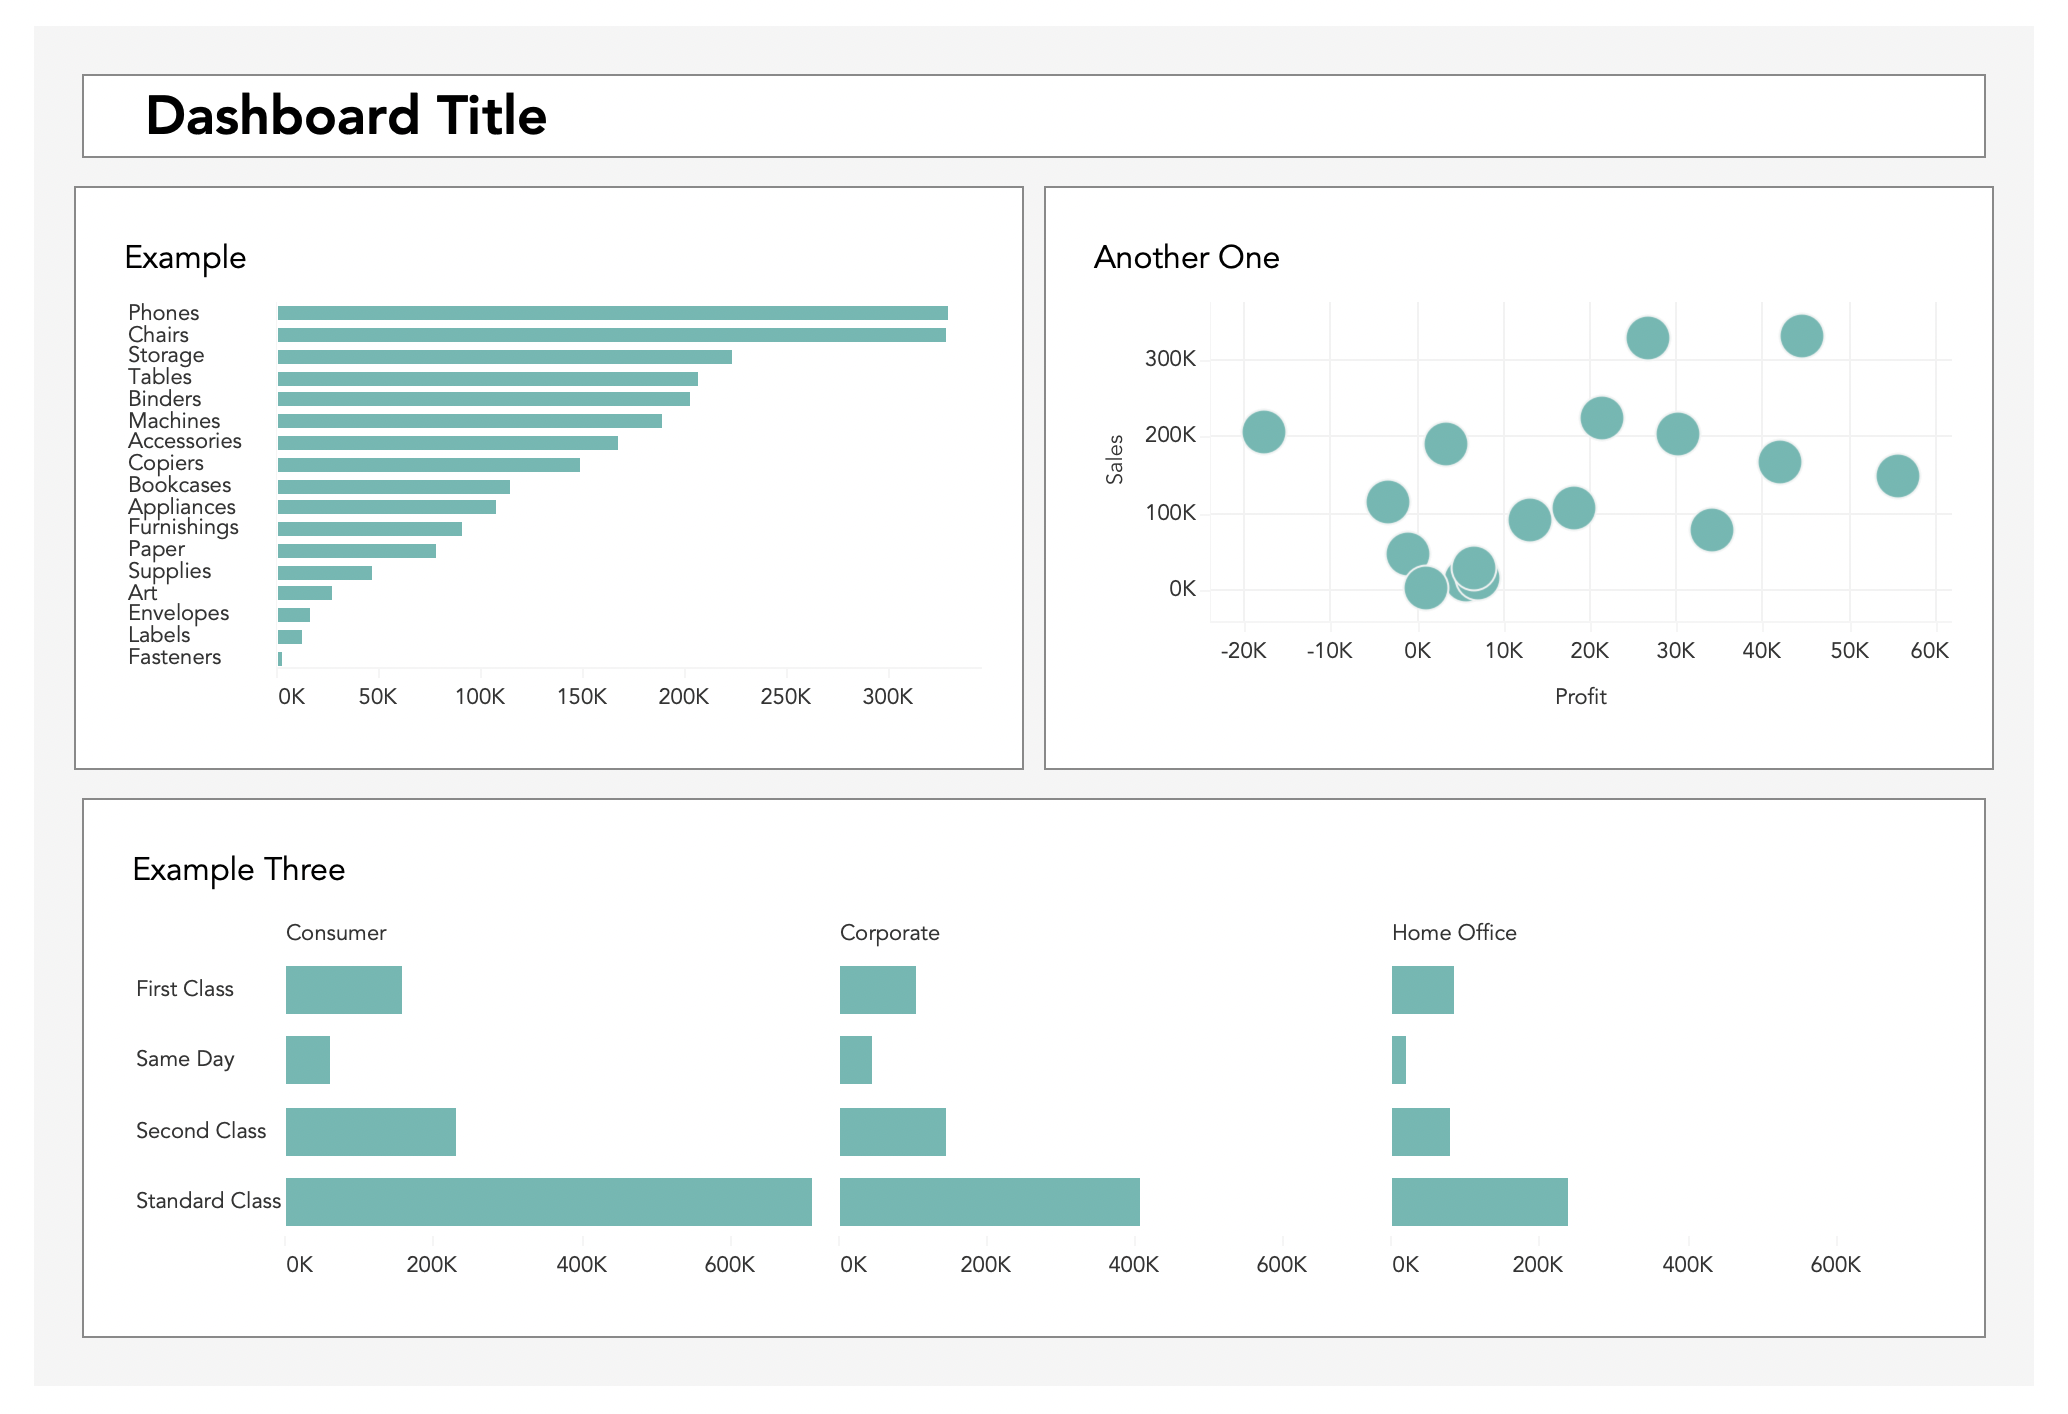

Layout of this report page (visuals, bound fields, positions):
{"tool":"tableau","page":{"name":"Dashboard","canvas":[1000,680],"ordinal":0},"visuals":[{"type":"dashboard-object","param":"[com.example.extensions.name].[0.1.0].[https://fsulaunchercomp.github.io/Bootstr","box":[0,0,1000,680]},{"type":"blank","box":[0,0,1000,680]},{"type":"text","box":[20,15,961,50]},{"type":"blank","box":[20,65,961,20]},{"type":"worksheet","title":"BarChart","mark":"Bar","rows":["Sub-Category"],"cols":["Sales"],"box":[20,85,300,300]},{"type":"blank","box":[320,85,15,300]},{"type":"worksheet","title":"Scatter","mark":"Circle","rows":["Sales"],"cols":["Profit"],"box":[335,85,646,300]},{"type":"blank","box":[20,385,961,20]},{"type":"worksheet","title":"MultiBarChart","mark":"Bar","rows":["Ship Mode"],"cols":["Segment","Sales"],"box":[20,405,961,250]}]}

Visuals, with their boxes in screenshot pixels (x1, y1, x2, y2), scaled from the page's 1000x680 canvas onto the 2068x1414 screenshot:
dashboard-object: 0,0,2067,1413
blank: 0,0,2067,1413
text: 41,31,2029,135
blank: 41,135,2029,177
"BarChart" worksheet (Bar marks): 41,177,662,801
blank: 662,177,693,801
"Scatter" worksheet (Circle marks): 693,177,2029,801
blank: 41,801,2029,842
"MultiBarChart" worksheet (Bar marks): 41,842,2029,1362
